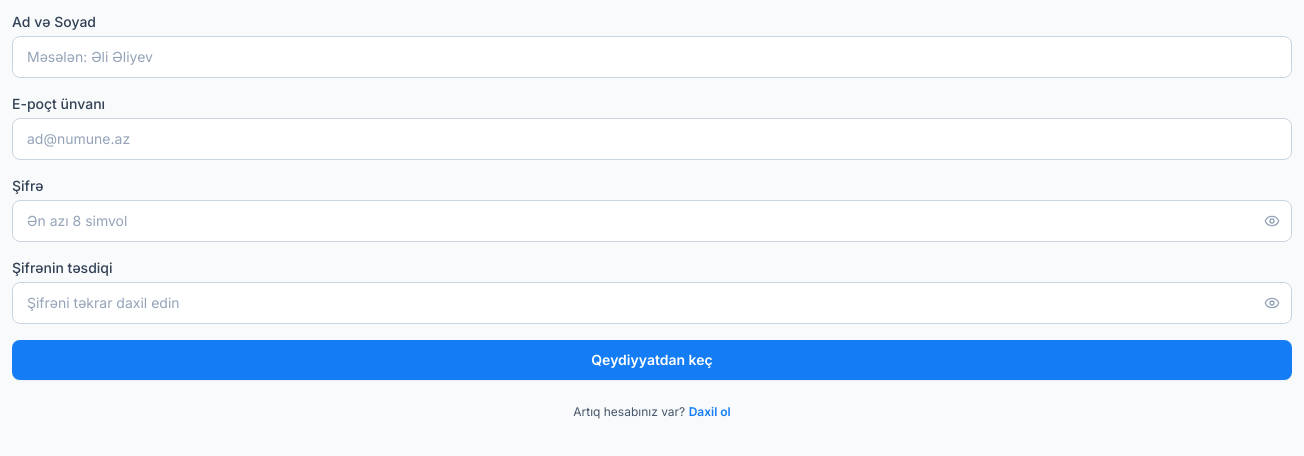
RegisterForm Component › rejects mismatched password confirmation
Type "Əli Əliyev" into the field labelled "Ad və Soyad" at (652, 57), box left=12, top=36, right=1292, bottom=78
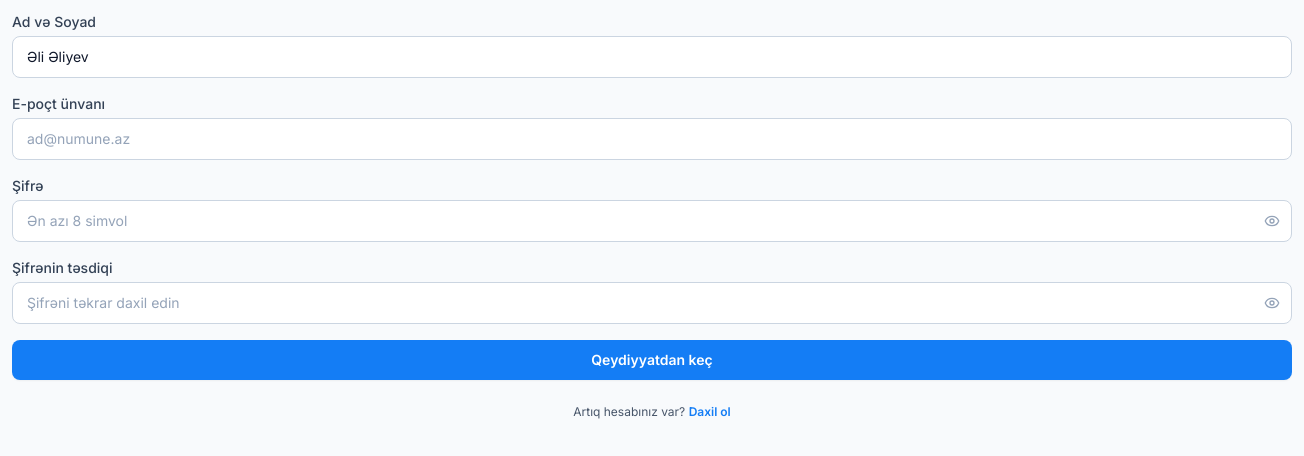
Type "ali@feedlab.az" into the field labelled "E-poçt ünvanı" at (652, 139), box left=12, top=118, right=1292, bottom=160
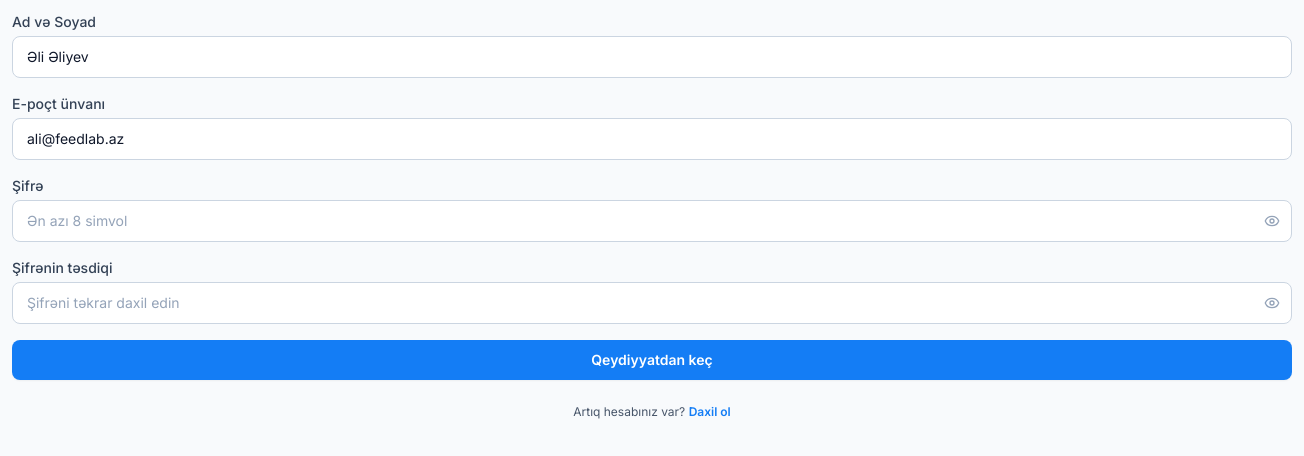
Type "Password123!" into the password field labelled "Şifrə" at (652, 221), box left=12, top=200, right=1292, bottom=242
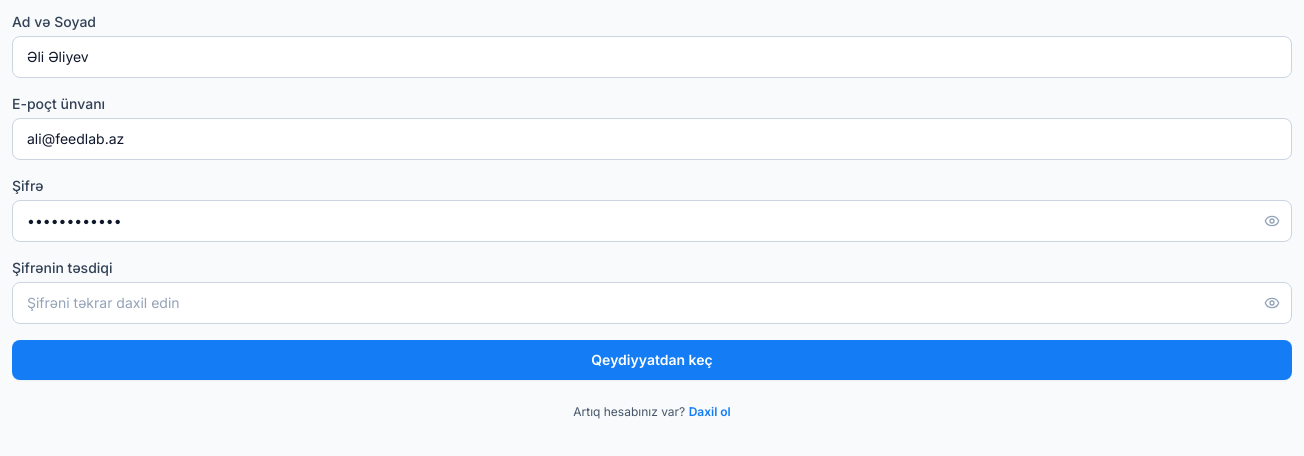
Type "DifferentPassword123!" into the password field labelled "Şifrənin təsdiqi" at (652, 303), box left=12, top=282, right=1292, bottom=324
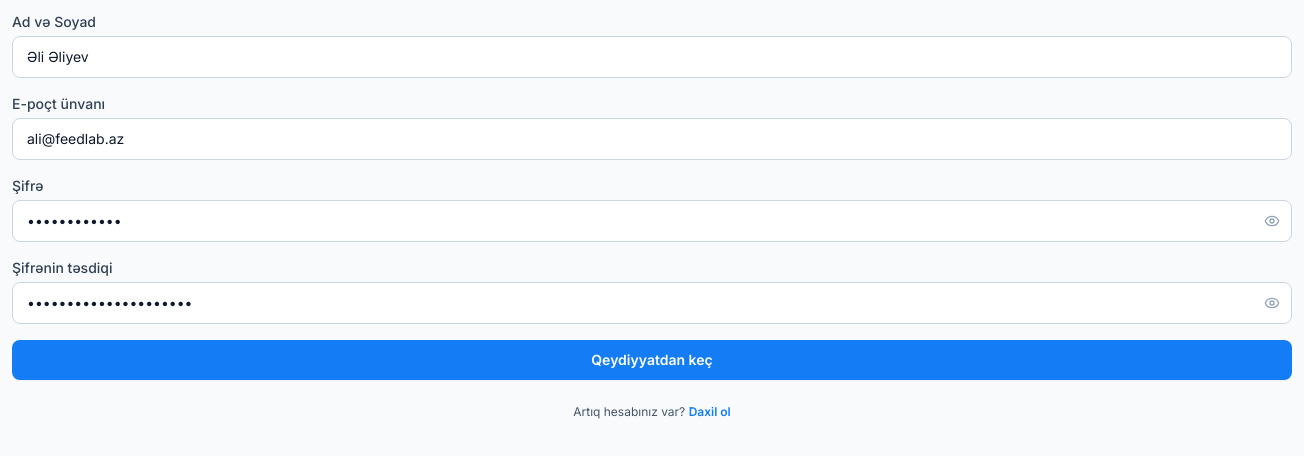
Click the button "Qeydiyyatdan keç" at (652, 360), box left=12, top=340, right=1292, bottom=380
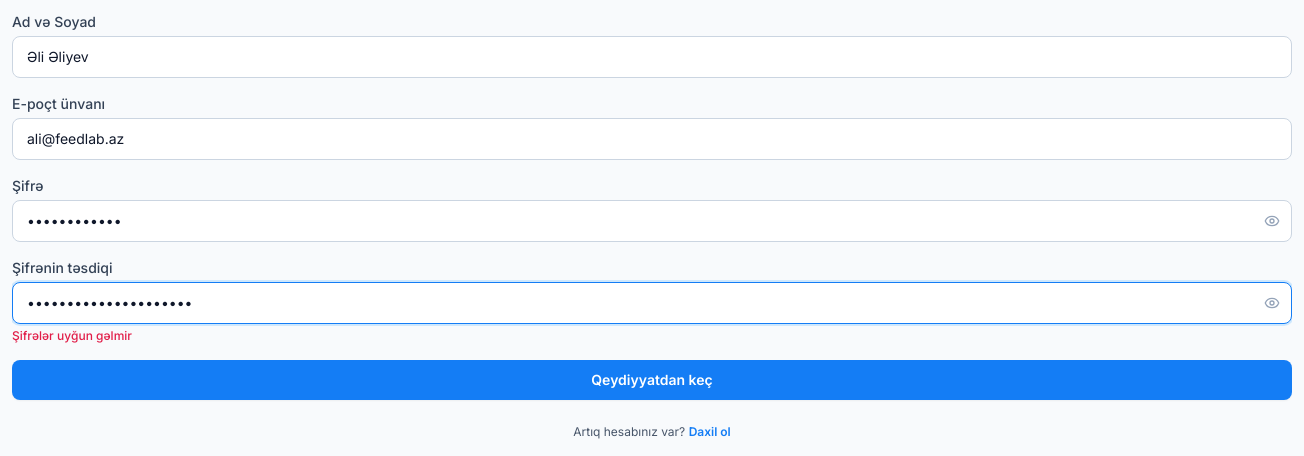
Check: the text "Şifrələr uyğun gəlmir" is shown, box left=12, top=328, right=132, bottom=343
